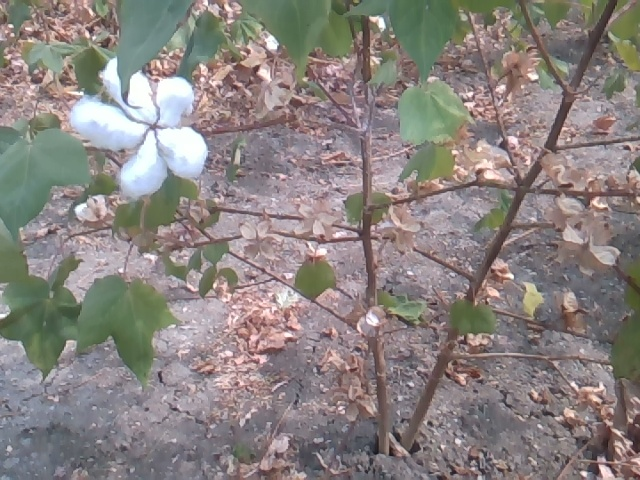cotton: (77, 63, 206, 197)
